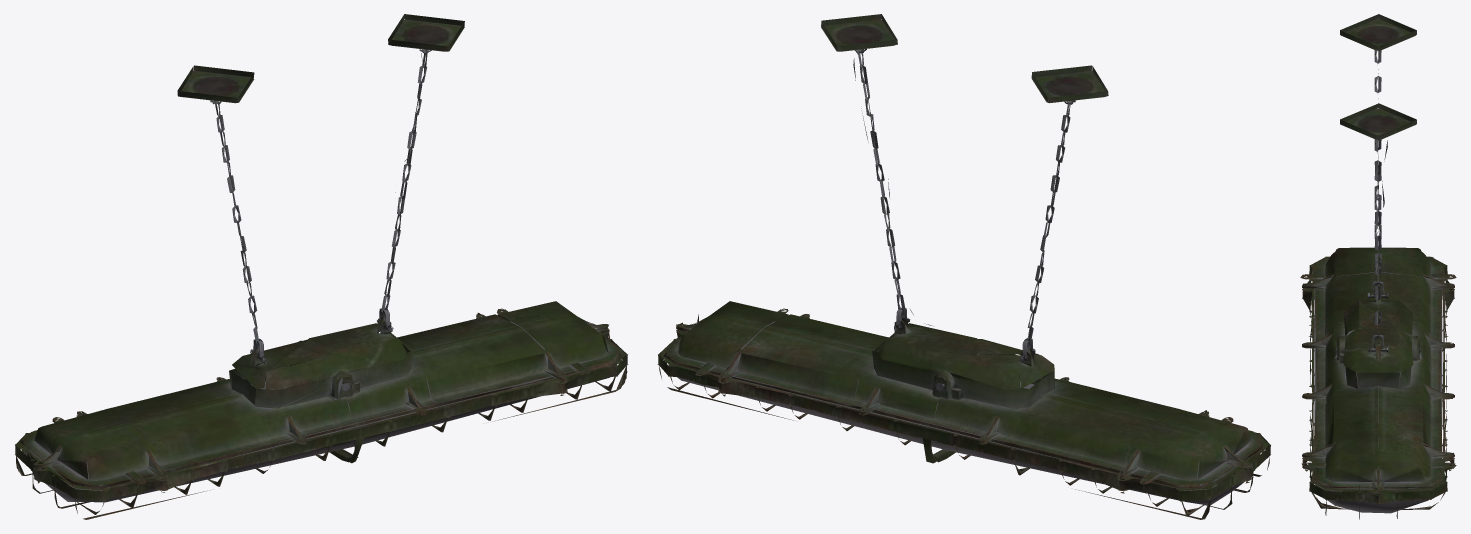
Rendered from isl_caged.glb.
3 renders of one model, left to right at view 1: azimuth 30°, elevation 25°; view 2: azimuth 150°, elevation 25°; view 3: azimuth 270°, elevation 25°, orthographic. The views are drawn at different scales.
Parts seen in each view (by area): view 1: caged_hanging_light; view 2: caged_hanging_light; view 3: caged_hanging_light.
Part boxes in pixels (box(x1,y1,x2,y2)): caged_hanging_light: box(15, 14, 628, 519); caged_hanging_light: box(657, 14, 1270, 519); caged_hanging_light: box(1300, 14, 1456, 519).
Bounding box in the file's own units: 1.17 × 0.7501 × 0.3147.
Materials: 1 (1 with a texture image).
